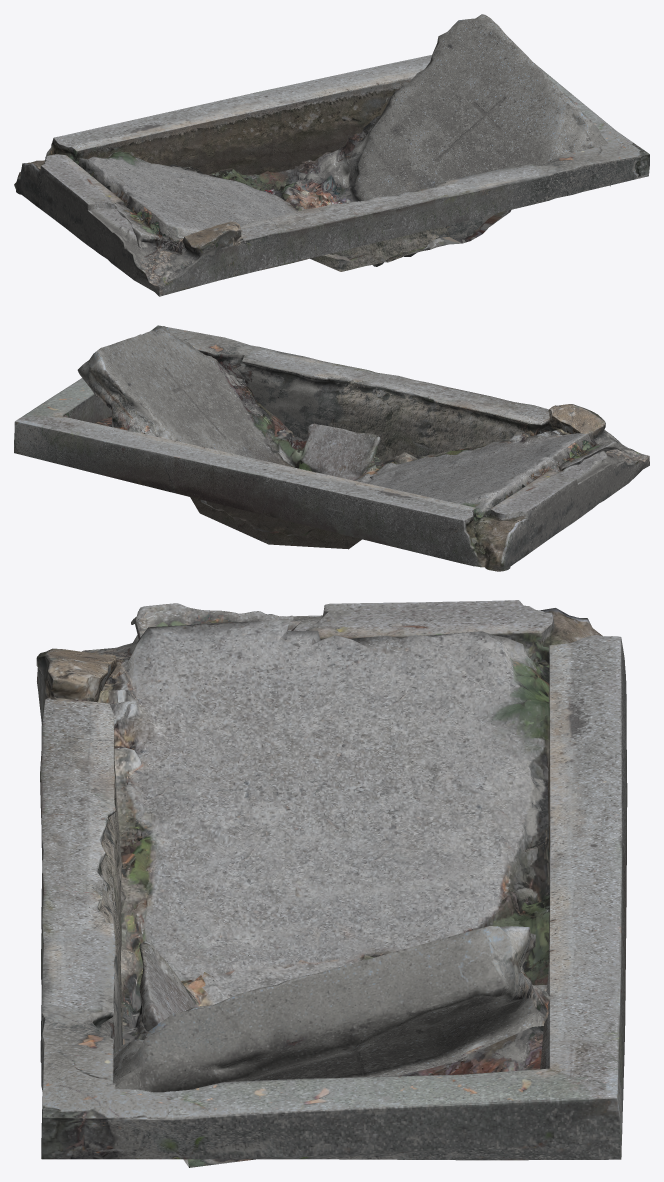
File: sm_Grave_08_01.fbx
The picture shows the model from 3 angles, top to bottom: view 1: azimuth 30°, elevation 25°; view 2: azimuth 150°, elevation 25°; view 3: azimuth 270°, elevation 25°; orthographic projection. The views are drawn at different scales.
Visible parts, largest first — view 1: sm_Grave_08_01_LOD0; view 2: sm_Grave_08_01_LOD0; view 3: sm_Grave_08_01_LOD0.
Part boxes in pixels (x1,y1,x2,y2): sm_Grave_08_01_LOD0: (14,14,649,296); sm_Grave_08_01_LOD0: (14,325,649,571); sm_Grave_08_01_LOD0: (36,600,627,1167).
Size of the model in its own units: 202 by 104 by 59.04.
